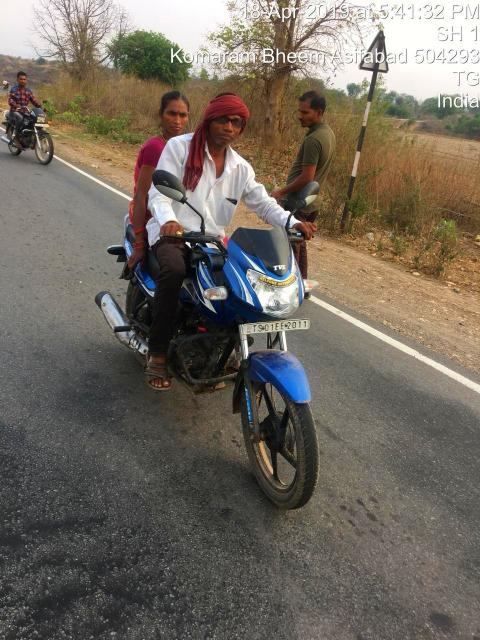motor: (97, 164, 326, 520)
non-helm: (204, 93, 250, 146), (159, 90, 194, 136)
